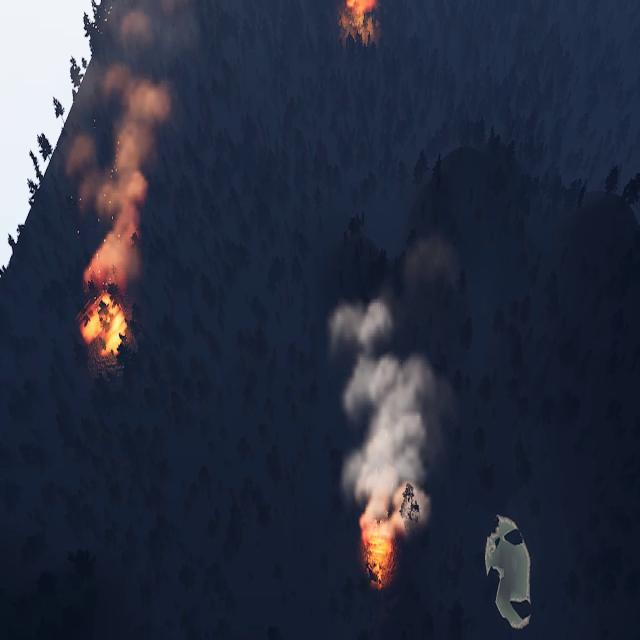fire: (356, 485, 416, 590), (79, 299, 126, 356), (342, 0, 380, 21)
smoke: (68, 0, 198, 287), (331, 237, 457, 509)
